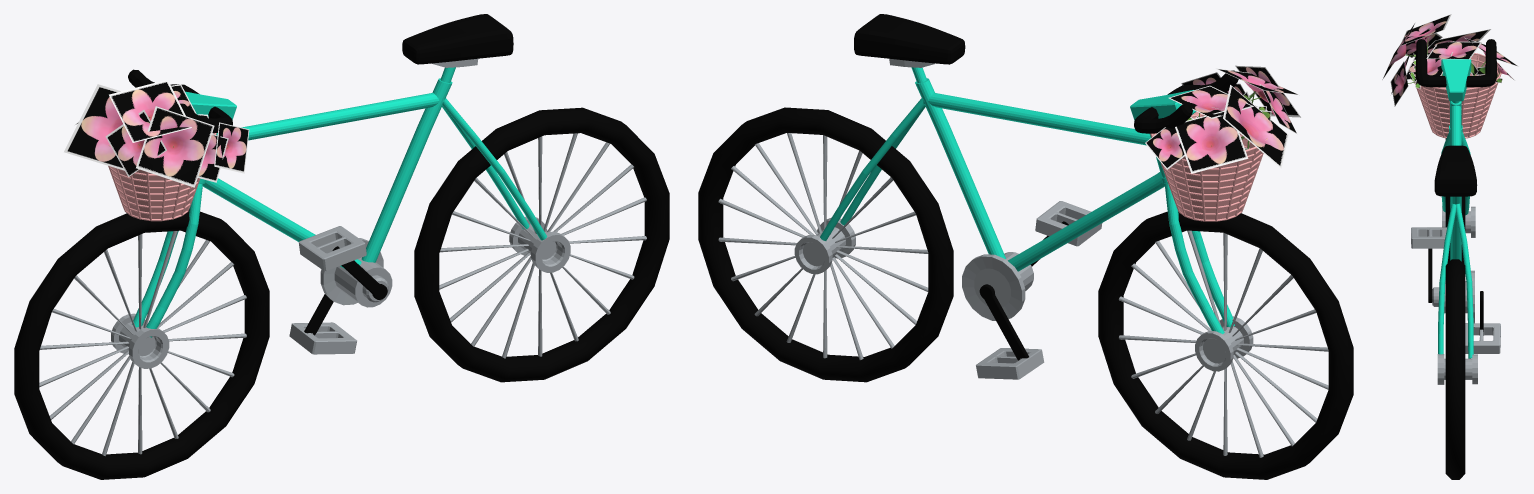
The model's file is stylized_bike.glb.
3 views of the same model, side by side, from view 1: azimuth 30°, elevation 25°; view 2: azimuth 150°, elevation 25°; view 3: azimuth 270°, elevation 25° (orthographic). The views are drawn at different scales.
Parts seen in each view (by area): view 1: bicycle; view 2: bicycle; view 3: bicycle.
Boxes of the visible parts, left/top/right/bottom form: bicycle: left=14, top=14, right=669, bottom=479; bicycle: left=698, top=14, right=1353, bottom=479; bicycle: left=1382, top=14, right=1518, bottom=479.
Bounding box in the file's own units: 3.82 × 2.23 × 0.9304.
Materials: 7 (2 with a texture image).
